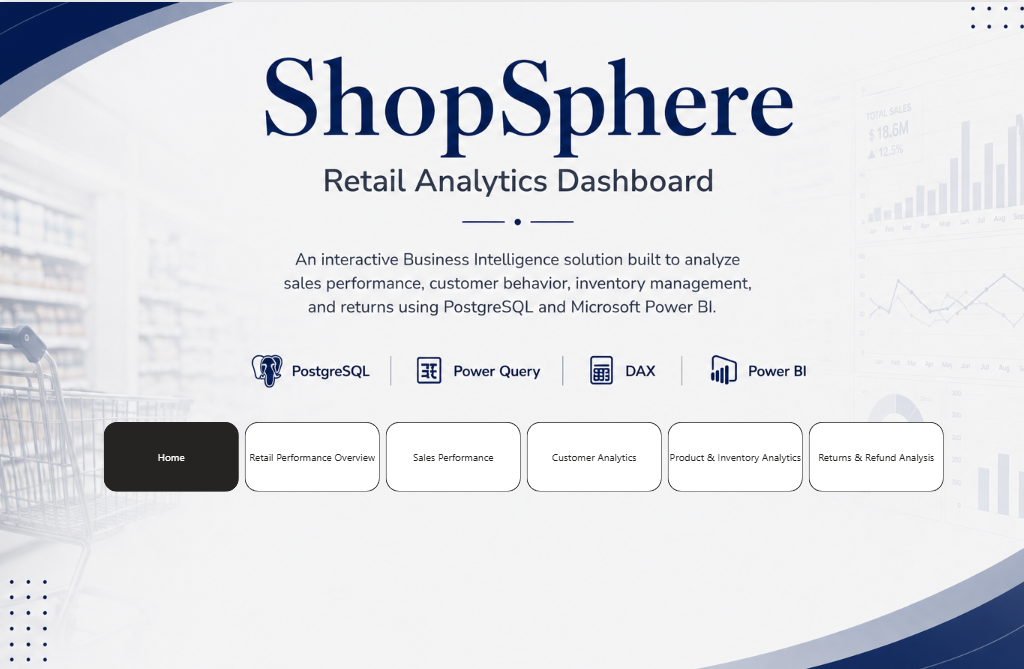

This screenshot's page, from the dashboard's own definition file:
{"tool":"powerbi","page":{"name":"Home","canvas":[1366,900],"ordinal":0},"visuals":[{"type":"pageNavigator","box":[138.3,560,1125,93.3],"z":0}]}

Visuals, with their boxes in screenshot pixels (x1, y1, x2, y2), scaled from the page's 1366x900 canvas onto the 1024x669 screenshot:
pageNavigator: {"x1": 104, "y1": 416, "x2": 947, "y2": 486}
